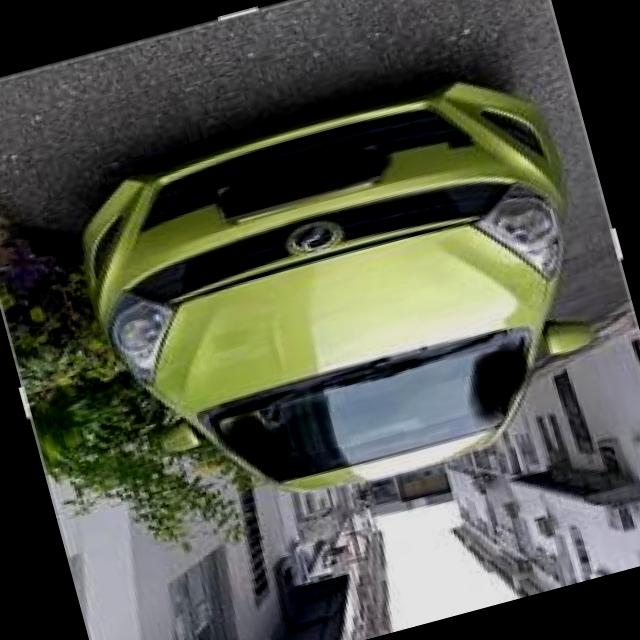PeroduaAxia: (58, 56, 630, 544)
